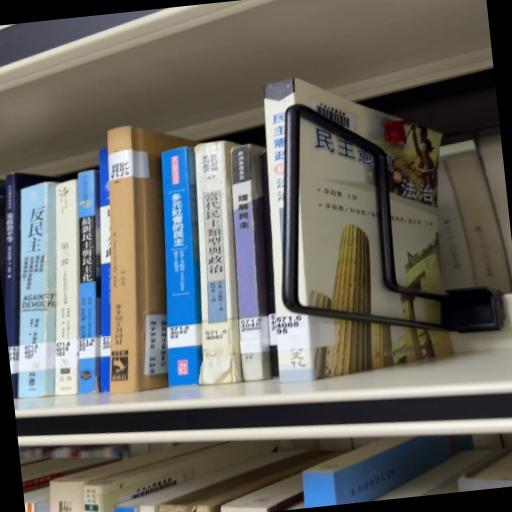reverse: (108, 127, 198, 394)
